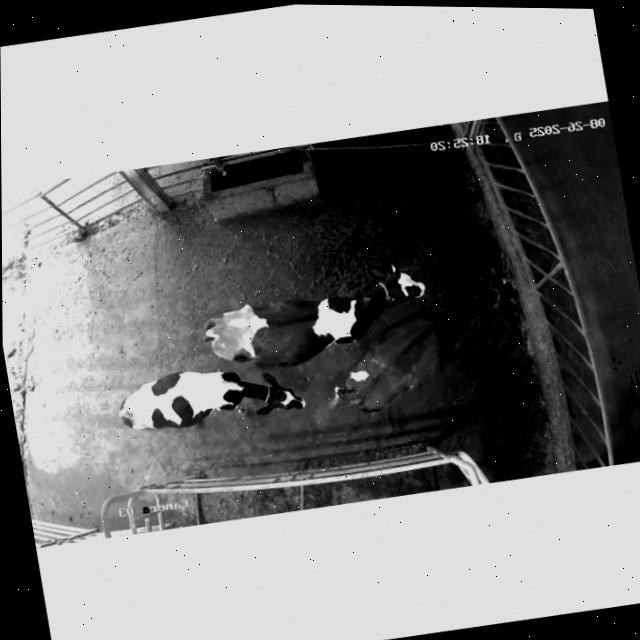stand: (321, 268, 547, 435), (193, 249, 439, 380), (107, 344, 315, 459)
